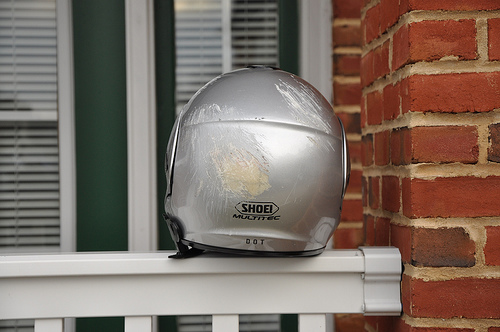helmet: (164, 77, 346, 256)
